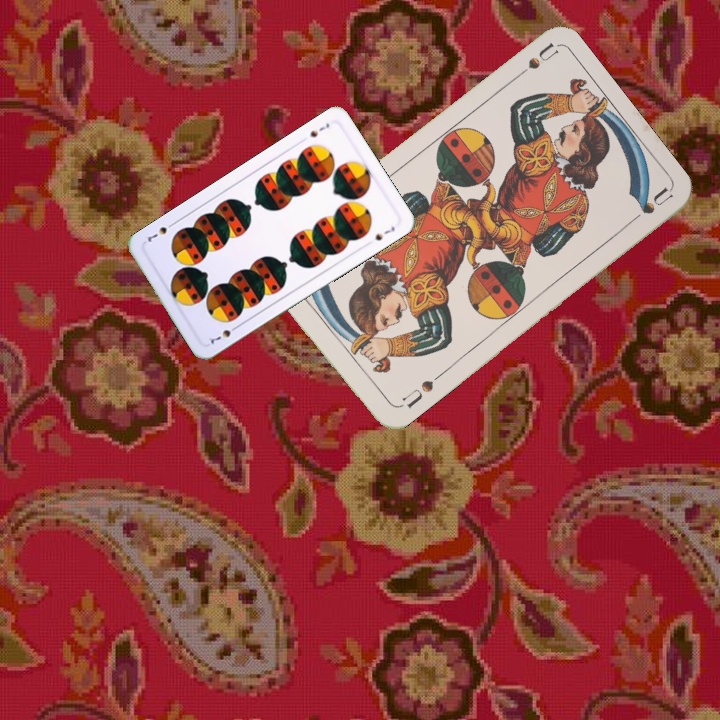S7: (206, 321, 242, 346), (306, 119, 332, 140)
SU: (507, 39, 560, 85), (398, 375, 436, 411)
